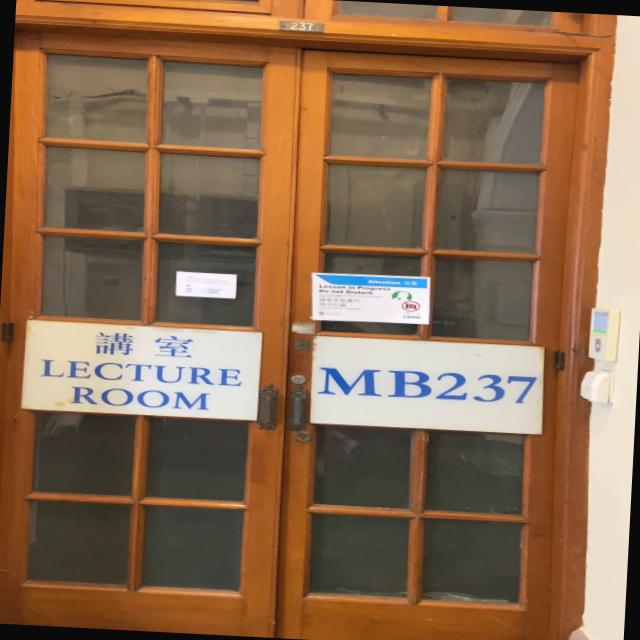room237: (276, 18, 328, 36)
room237Window: (311, 336, 544, 433)
